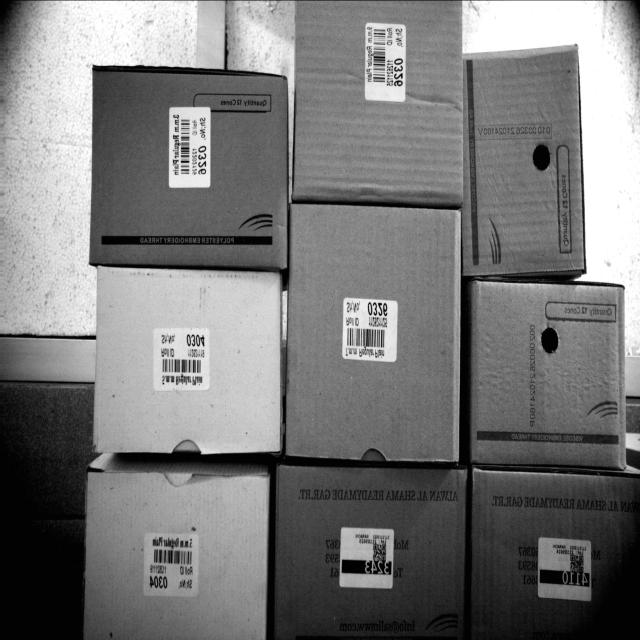cardboxes: (287, 208, 462, 455), (90, 64, 286, 266), (93, 268, 279, 452), (274, 461, 464, 639), (294, 0, 463, 198), (472, 282, 626, 473), (89, 471, 261, 639), (470, 282, 622, 470), (472, 472, 640, 639), (465, 46, 587, 265)
